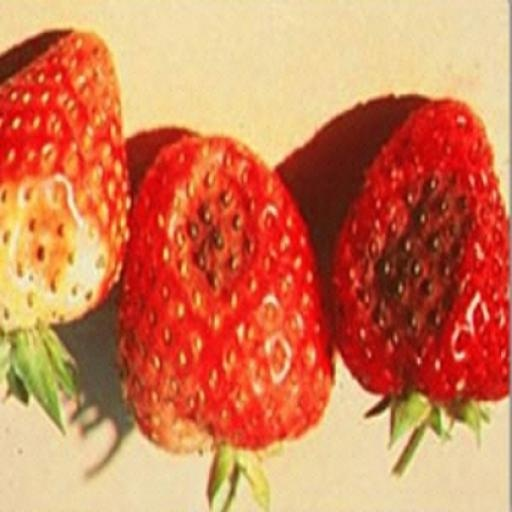Anthracnose Fruit Rot: (355, 148, 481, 341), (0, 186, 121, 344), (165, 203, 262, 358)
